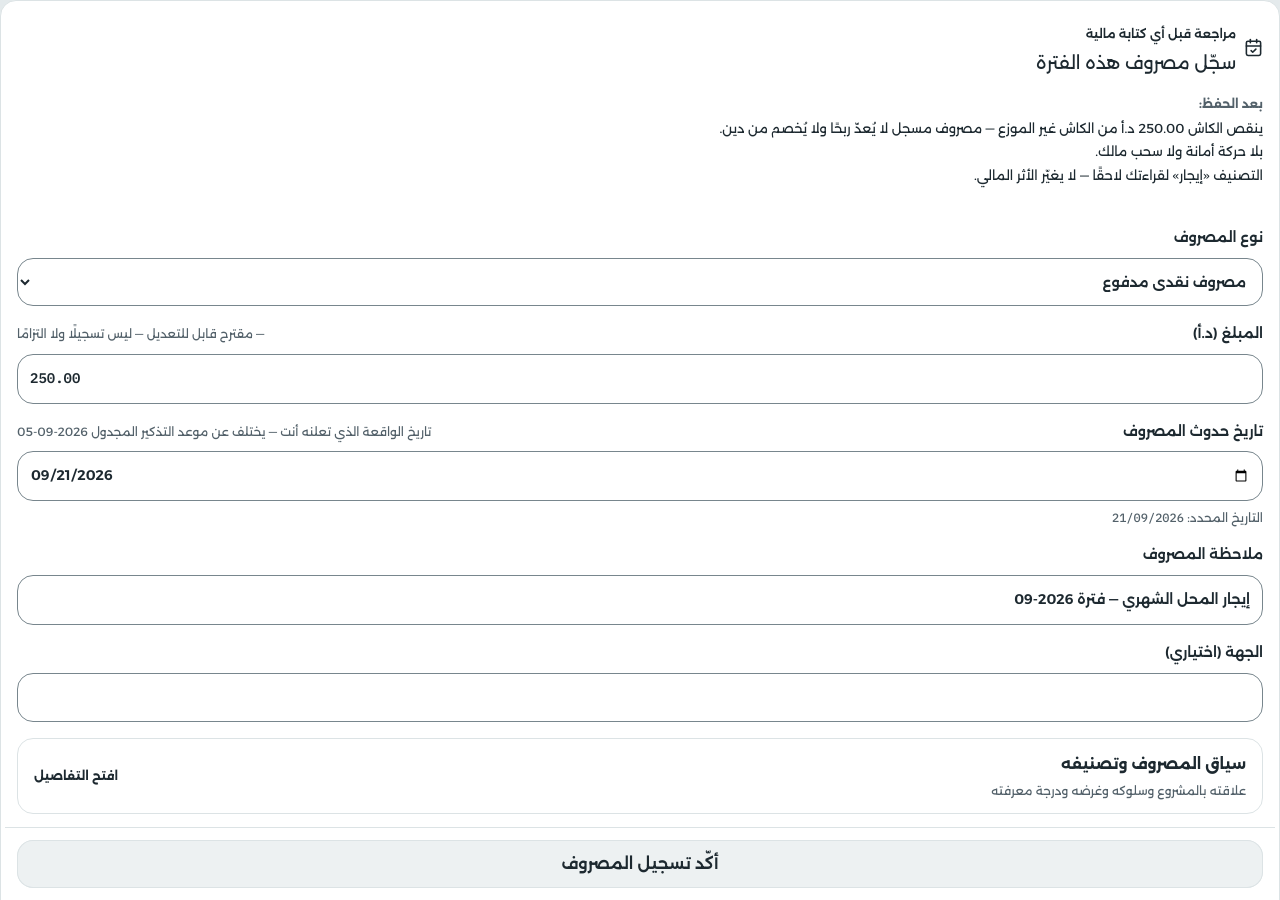
Test: OPS-003 — لوحة التأكيد (DOM) › «المصروف مسجل مسبقًا لهذه الفترة» عند إعادة تأكيد فترة مقَرَّرة: لا حدث ثانٍ
Click the button "أكّد تسجيل المصروف". click: {"x": 640, "y": 864}
box: left=17, top=840, right=1263, bottom=888
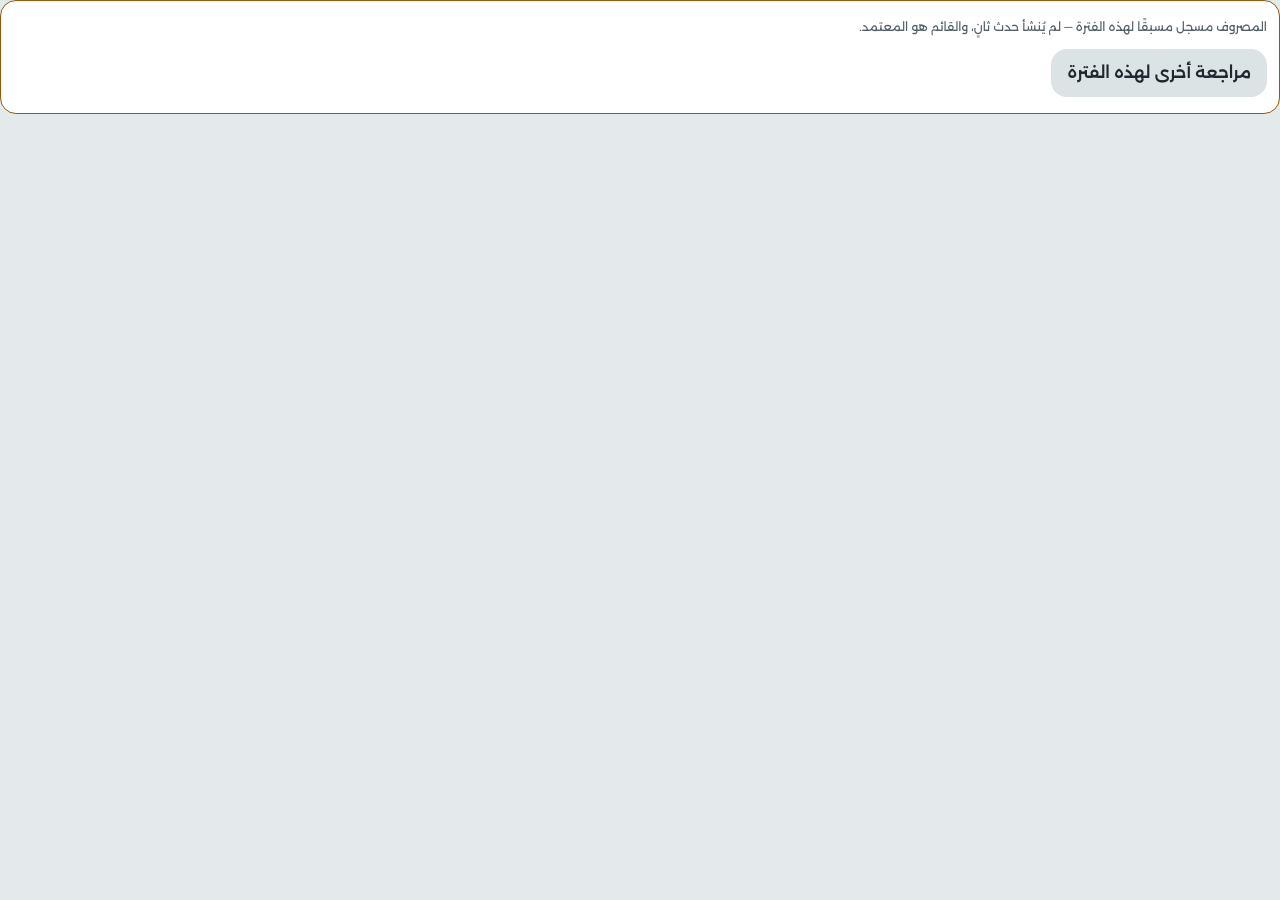
Expected: the text "المصروف مسجل مسبقًا لهذه الفترة" is shown, left=859, top=19, right=1267, bottom=34
